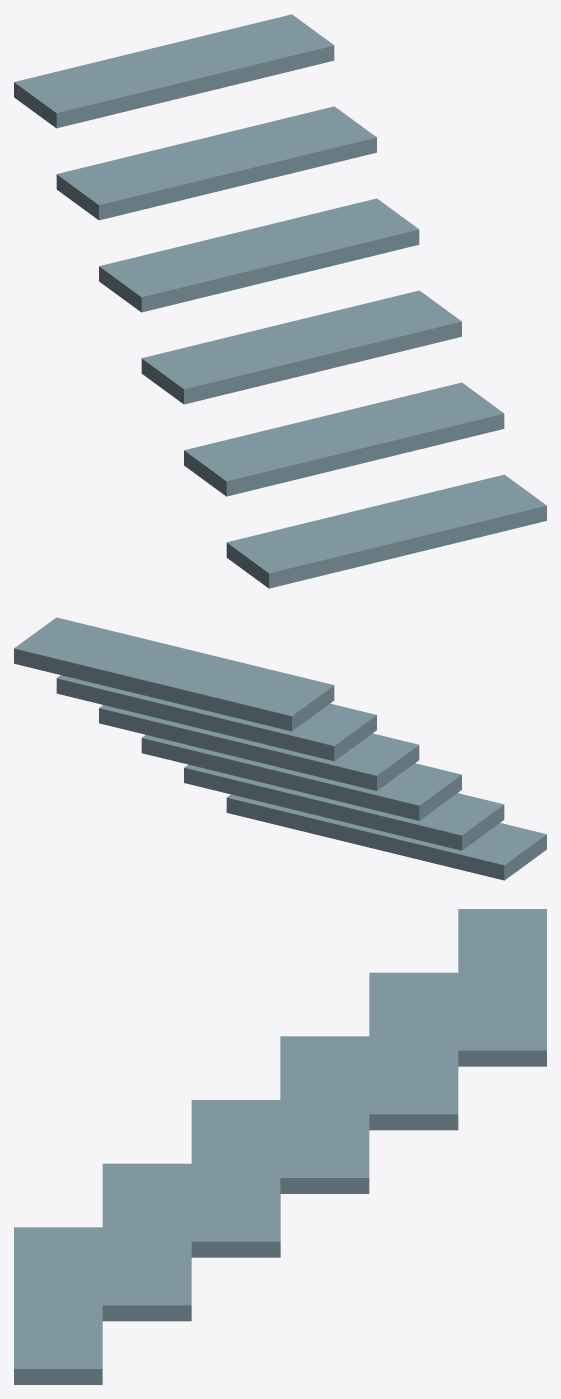
Rendered from Stairs_005.glb.
The picture shows the model from 3 angles, top to bottom: view 1: azimuth 30°, elevation 25°; view 2: azimuth 150°, elevation 25°; view 3: azimuth 270°, elevation 25°; orthographic projection. The views are drawn at different scales.
Visible parts, largest first — view 1: Stairs_005; view 2: Stairs_005; view 3: Stairs_005.
Boxes of the visible parts, x1,y1,x2,y2 form: Stairs_005: [14, 14, 546, 588]; Stairs_005: [14, 617, 546, 880]; Stairs_005: [14, 909, 546, 1384].
Size of the model in its own units: 1.6 by 1.76 by 2.54.
1 material, 1 textured.
